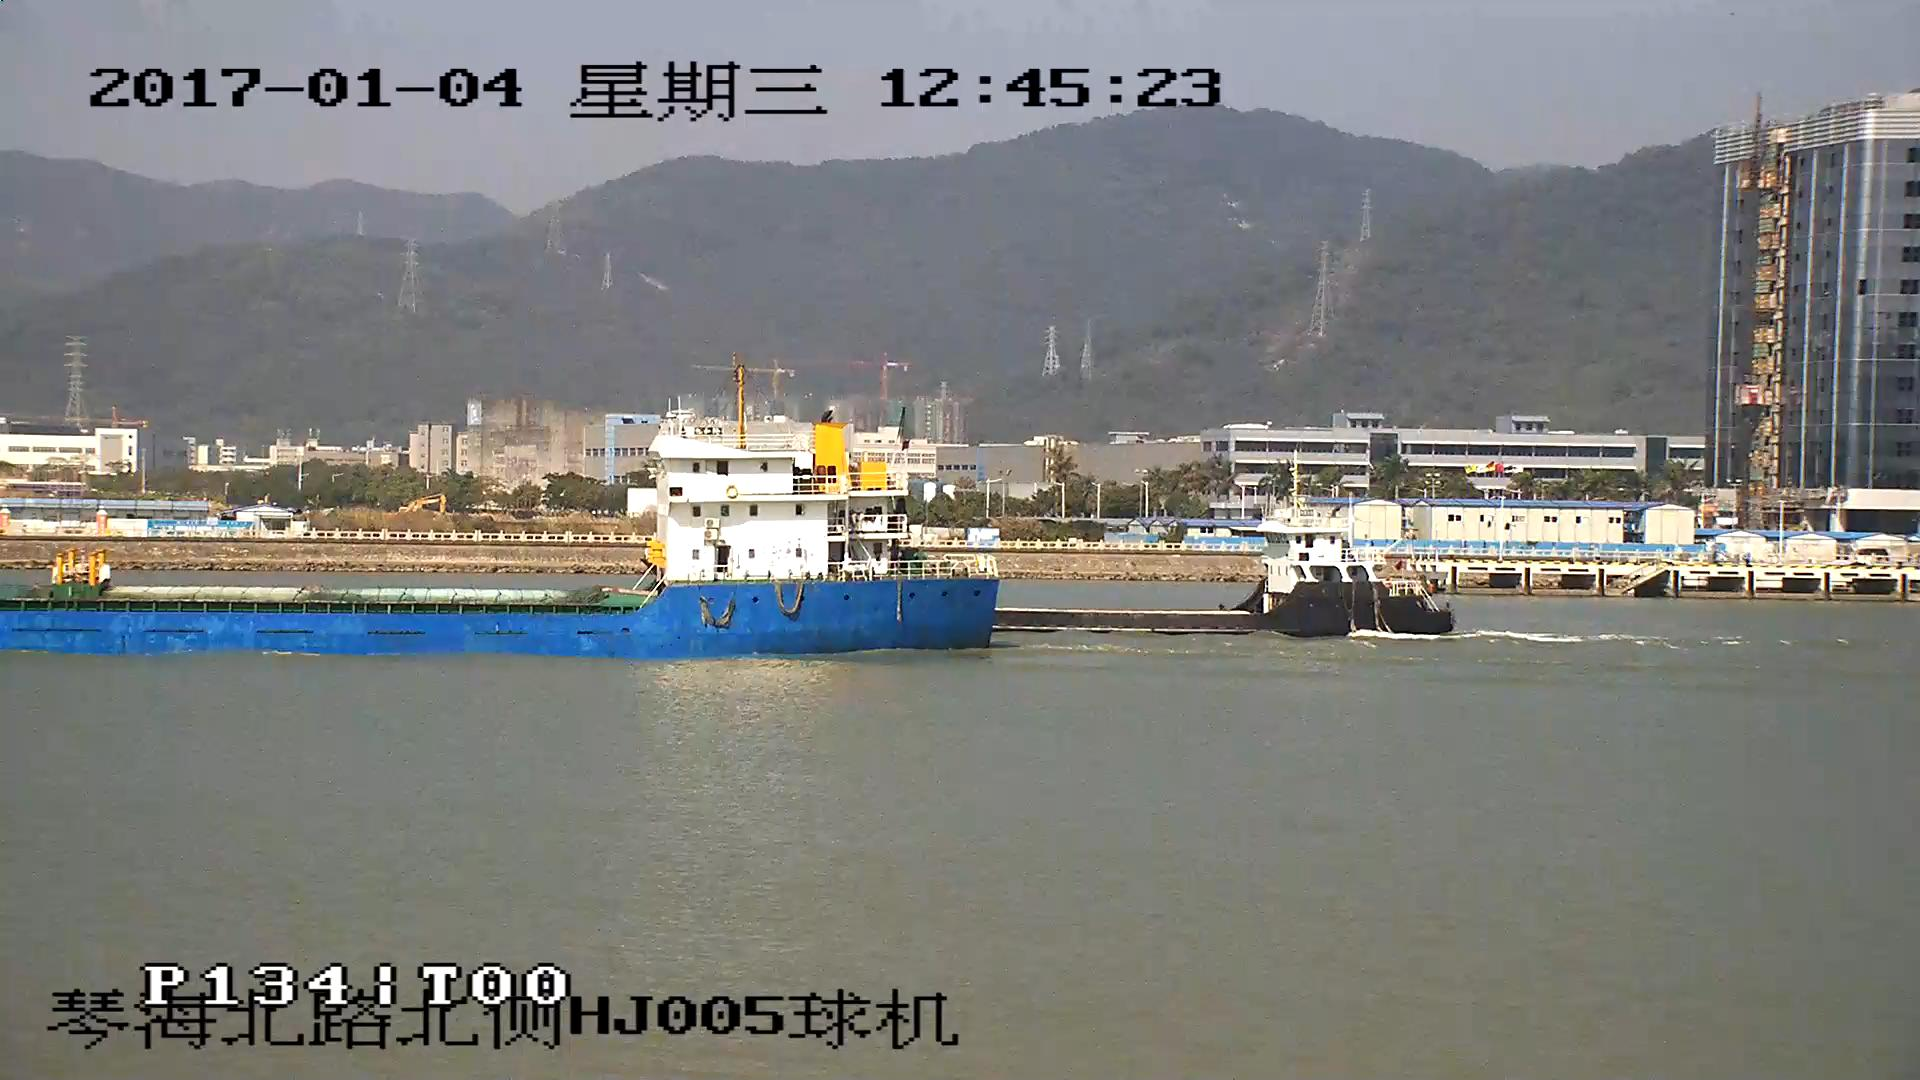general cargo ship: (1, 421, 1004, 654), (1004, 495, 1460, 645)
